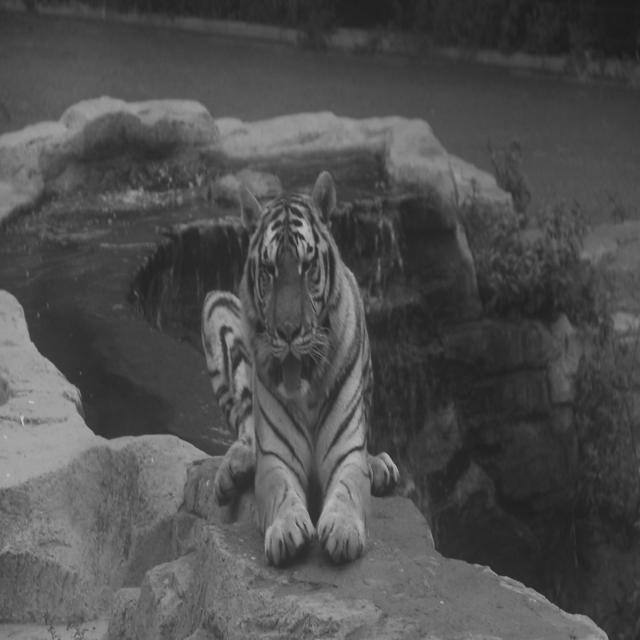Tiger: (200, 168, 400, 567)
